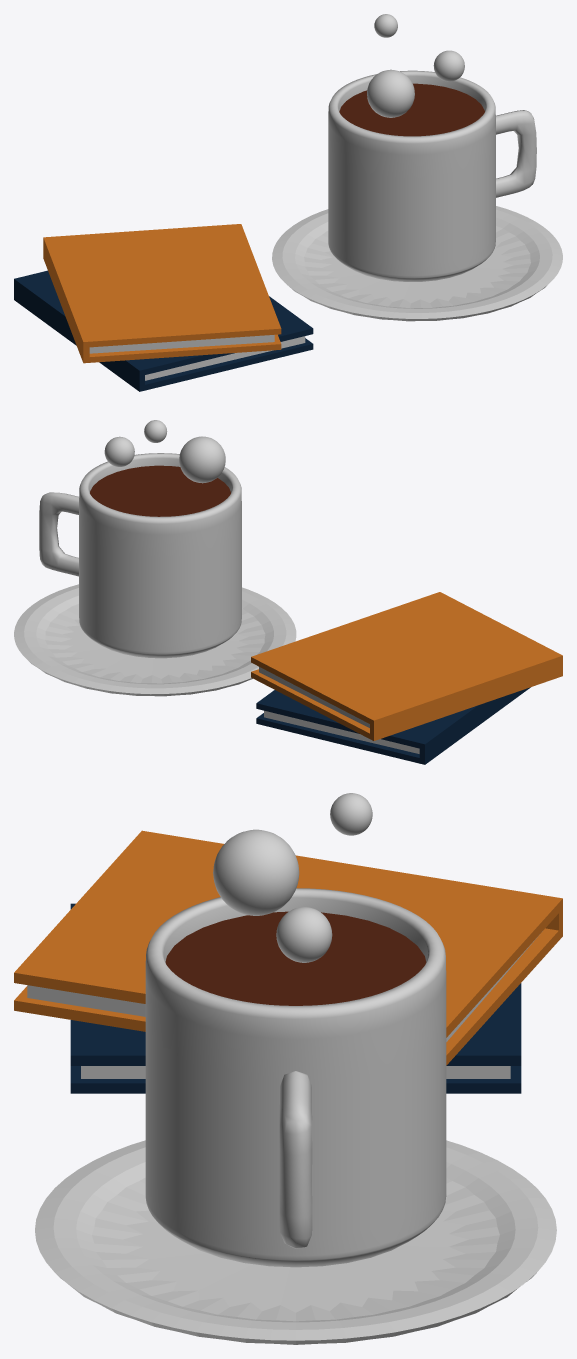
File: coffee.obj
3 views of the same model, one above another, from view 1: azimuth 30°, elevation 25°; view 2: azimuth 150°, elevation 25°; view 3: azimuth 270°, elevation 25° (orthographic). The views are drawn at different scales.
Visible parts, largest first — view 1: 立方体.002, 柱体, 柱体.001, 立方体.001, 柱体.002, 立方体, 球体, 球体.001; view 2: 立方体.002, 柱体, 柱体.001, 立方体.001, 柱体.002, 立方体, 球体, 球体.001, 球体.002; view 3: 柱体, 柱体.001, 立方体.002, 柱体.002, 立方体.001, 球体, 立方体, 球体.001, 球体.002.
Part boxes in pixels (box(x1,y1,x2,y2)): 立方体.002: box(43, 224, 281, 363); 柱体: box(328, 70, 495, 281); 柱体.001: box(272, 206, 562, 321); 立方体.001: box(14, 270, 313, 391); 柱体.002: box(339, 83, 484, 136); 立方体: box(496, 110, 536, 197); 球体: box(367, 69, 414, 117); 球体.001: box(433, 50, 464, 81); 立方体.002: box(251, 592, 562, 740); 柱体: box(79, 453, 241, 658); 柱体.001: box(14, 584, 296, 696); 立方体.001: box(256, 687, 530, 764); 柱体.002: box(90, 465, 230, 516); 立方体: box(39, 492, 79, 576); 球体: box(179, 436, 225, 483); 球体.001: box(104, 436, 134, 466); 球体.002: box(144, 420, 167, 442); 柱体: box(145, 888, 446, 1267); 柱体.001: box(35, 1140, 556, 1344); 立方体.002: box(14, 830, 562, 1065); 柱体.002: box(165, 911, 426, 1005); 立方体.001: box(70, 903, 521, 1093); 球体: box(213, 829, 299, 915); 立方体: box(279, 1071, 312, 1248); 球体.001: box(276, 907, 332, 962); 球体.002: box(330, 793, 372, 835).
Size of what is drawn, in the model's own units: 6.88 by 3.2 by 3.63.
